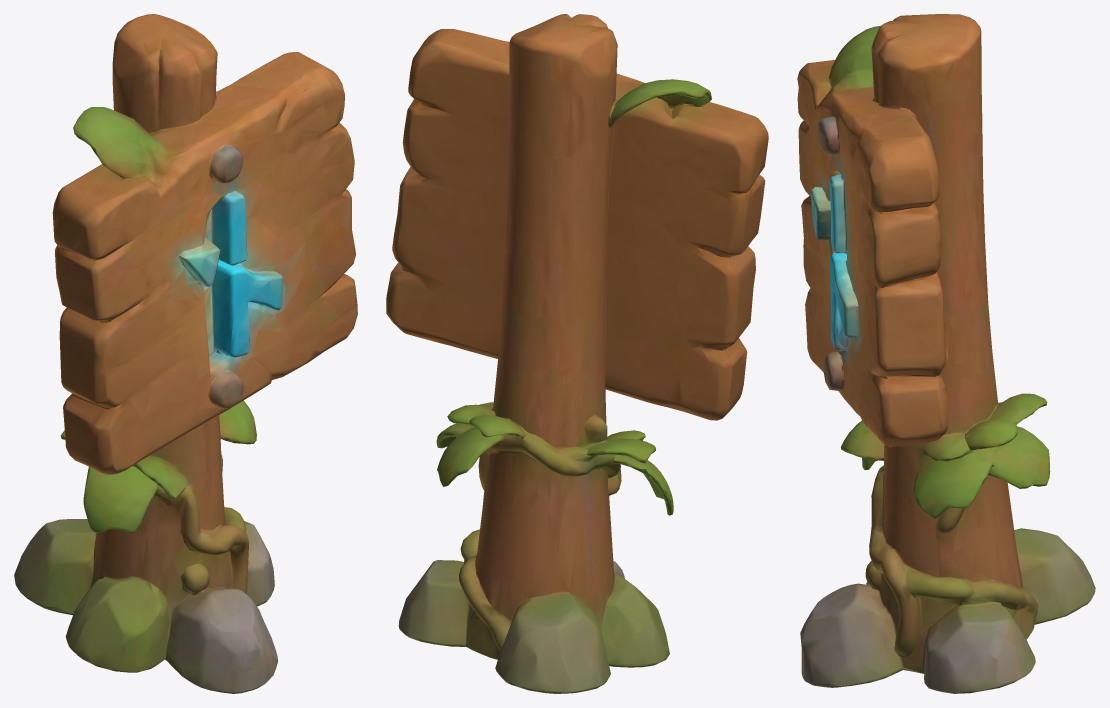
Rendered from cartel_runa_cian.glb.
3 views of the same model, side by side, from view 1: azimuth 30°, elevation 25°; view 2: azimuth 150°, elevation 25°; view 3: azimuth 270°, elevation 25° (orthographic). The views are drawn at different scales.
Visible parts, largest first — view 1: cartel_runa_cian_malla; view 2: cartel_runa_cian_malla; view 3: cartel_runa_cian_malla.
Part boxes in pixels (<box>): cartel_runa_cian_malla: <box>14,14,357,693</box>; cartel_runa_cian_malla: <box>386,14,768,693</box>; cartel_runa_cian_malla: <box>797,14,1095,693</box>.
Size of the model in its own units: 0.1595 by 0.2957 by 0.1248.
1 material, 1 textured.
